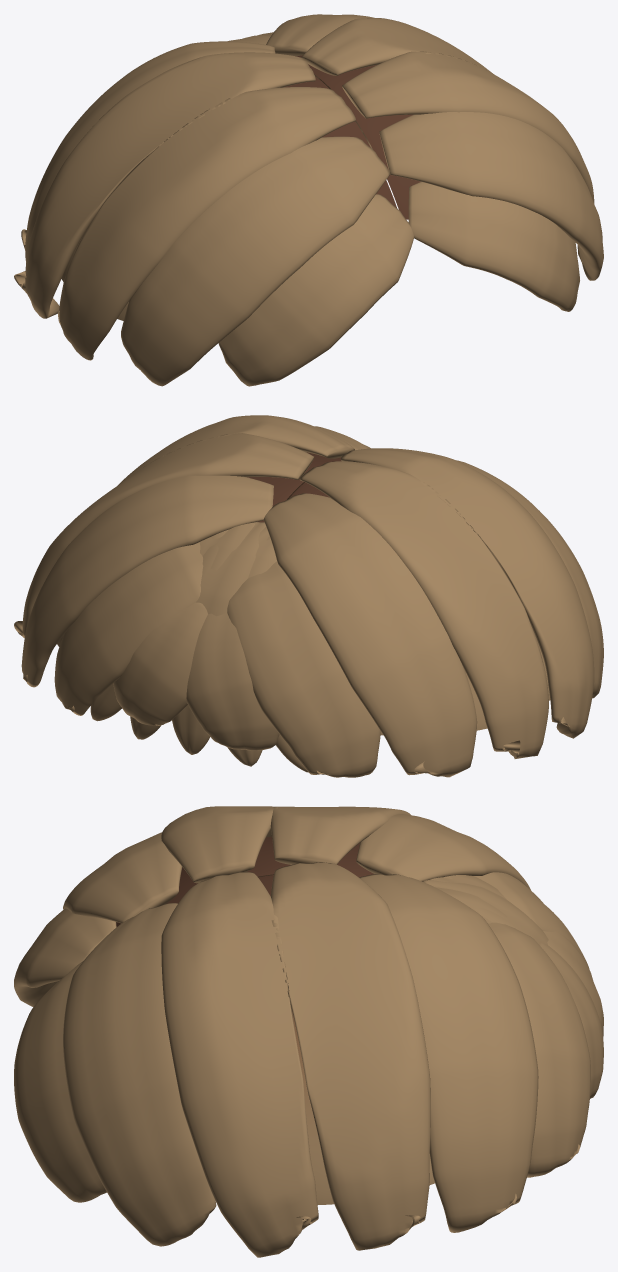
The model's file is Masculine-middle-part-pashmina260-hair-ombre.glb.
3 views of the same model, one above another, from view 1: azimuth 30°, elevation 25°; view 2: azimuth 150°, elevation 25°; view 3: azimuth 270°, elevation 25° (orthographic). The views are drawn at different scales.
Visible parts, largest first — view 1: 226 hair / Hair260 / layered middle-part; view 2: 226 hair / Hair260 / layered middle-part; view 3: 226 hair / Hair260 / layered middle-part.
Part boxes in pixels (x1,y1,x2,y2): 226 hair / Hair260 / layered middle-part: (14, 14, 603, 386); 226 hair / Hair260 / layered middle-part: (14, 415, 603, 777); 226 hair / Hair260 / layered middle-part: (14, 806, 603, 1257).
Bounding box in the file's own units: 1.03 × 0.4506 × 0.8741.
